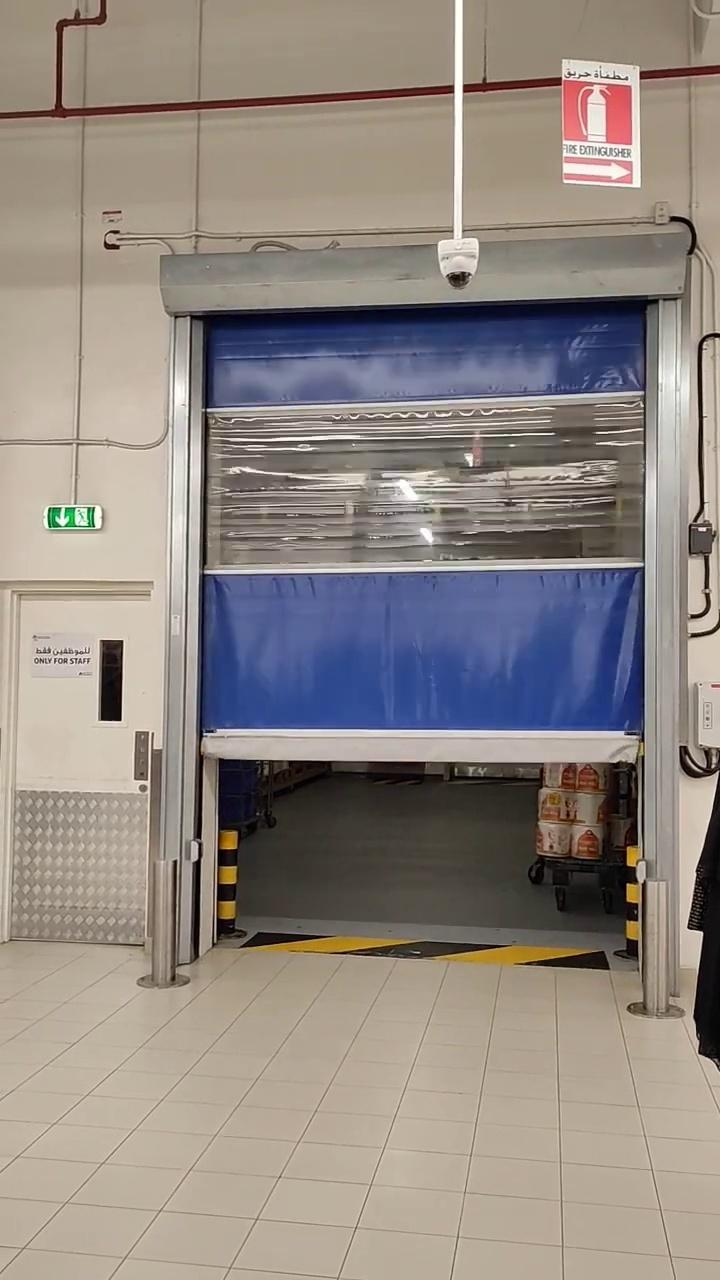Strip: (251, 925, 611, 971)
